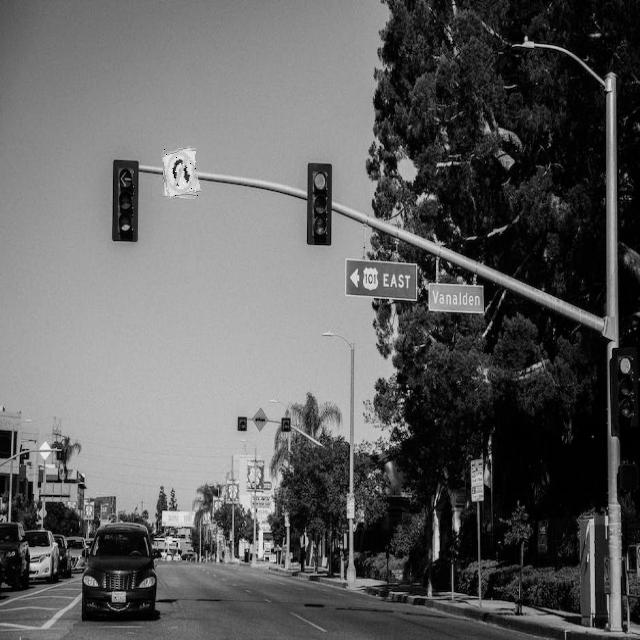no u turn: (163, 148, 198, 198)
